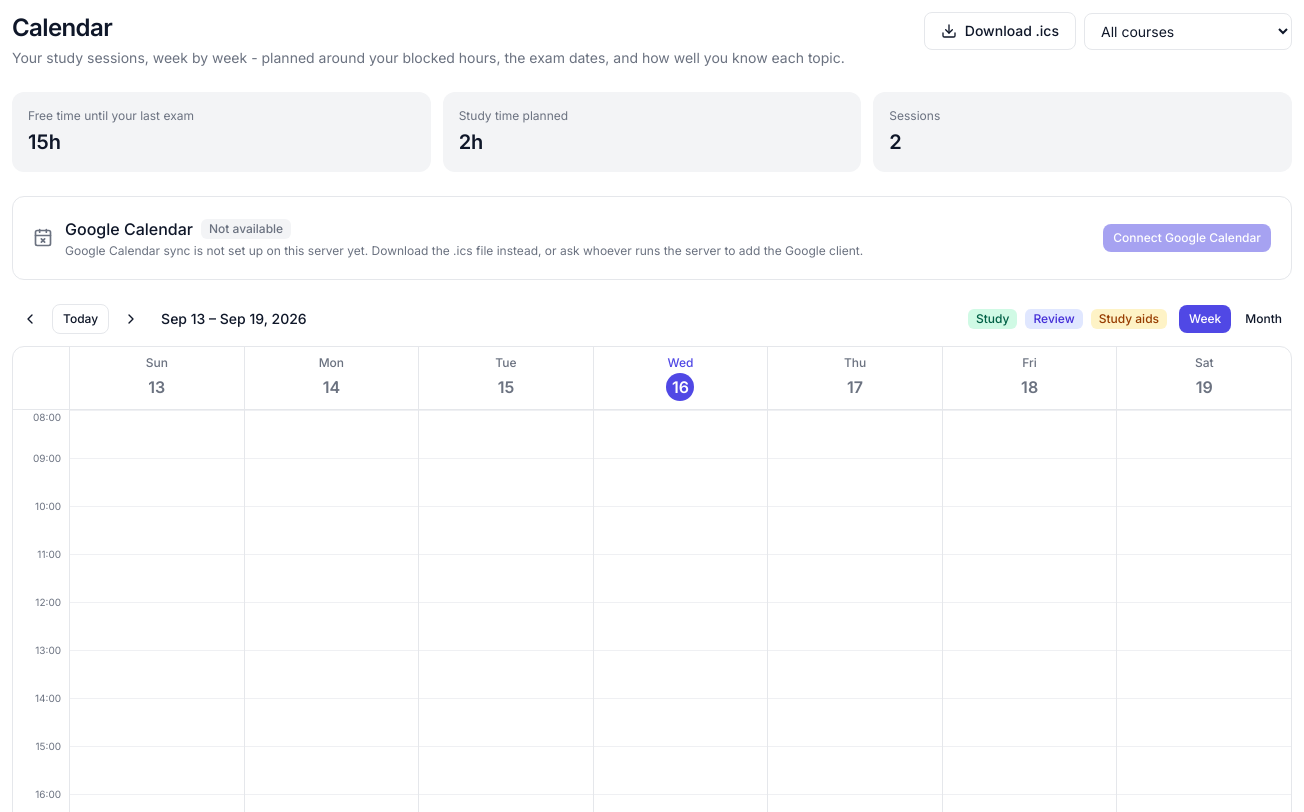
CalendarPage › explains an infeasible single course instead of drawing a grid
Select "Data Structures" in the dropdown named "Filter by course" at [1188, 31], box [1084,12,1292,50]
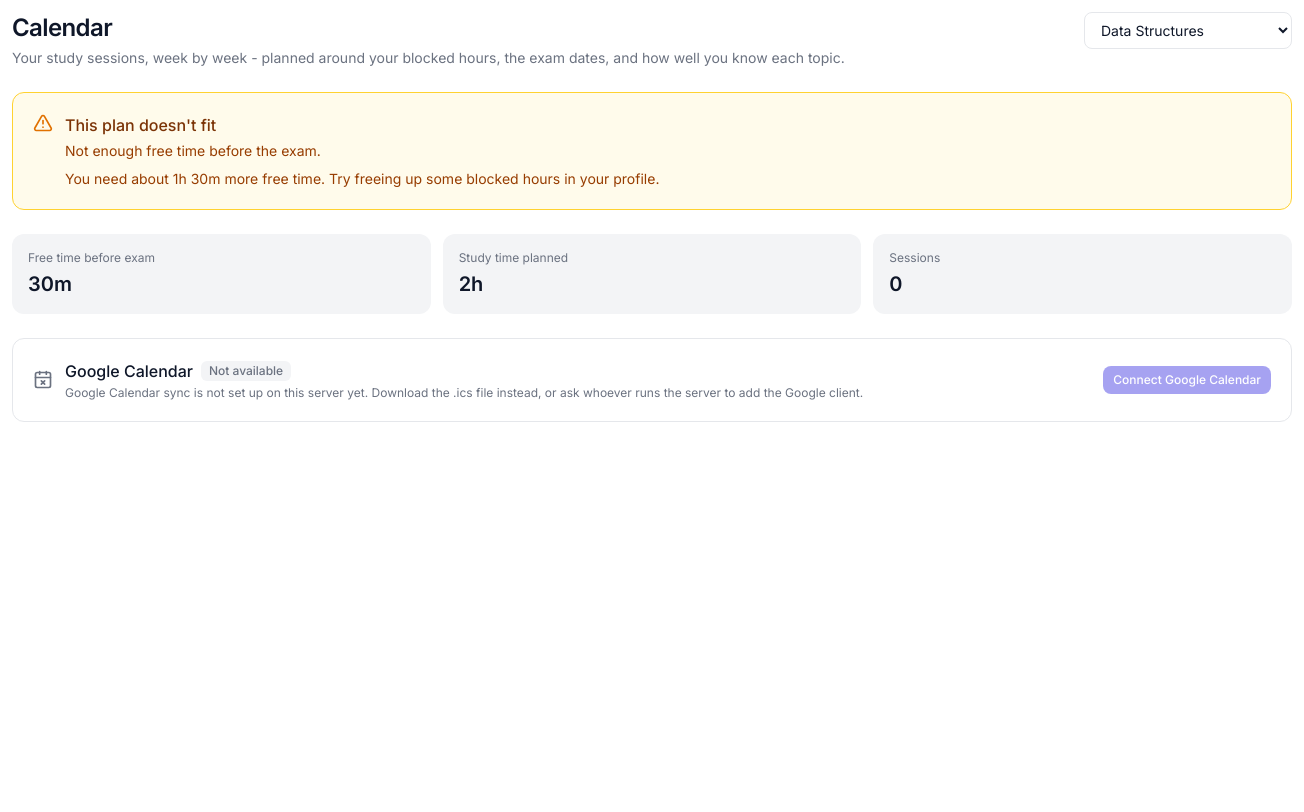
Expected: the text "This plan doesn't fit" is shown, [65,115,216,135]
Expected: the text "1h 30m more free time. Try" is shown, [65,169,659,189]
Expected: the text "Sun" is gone
